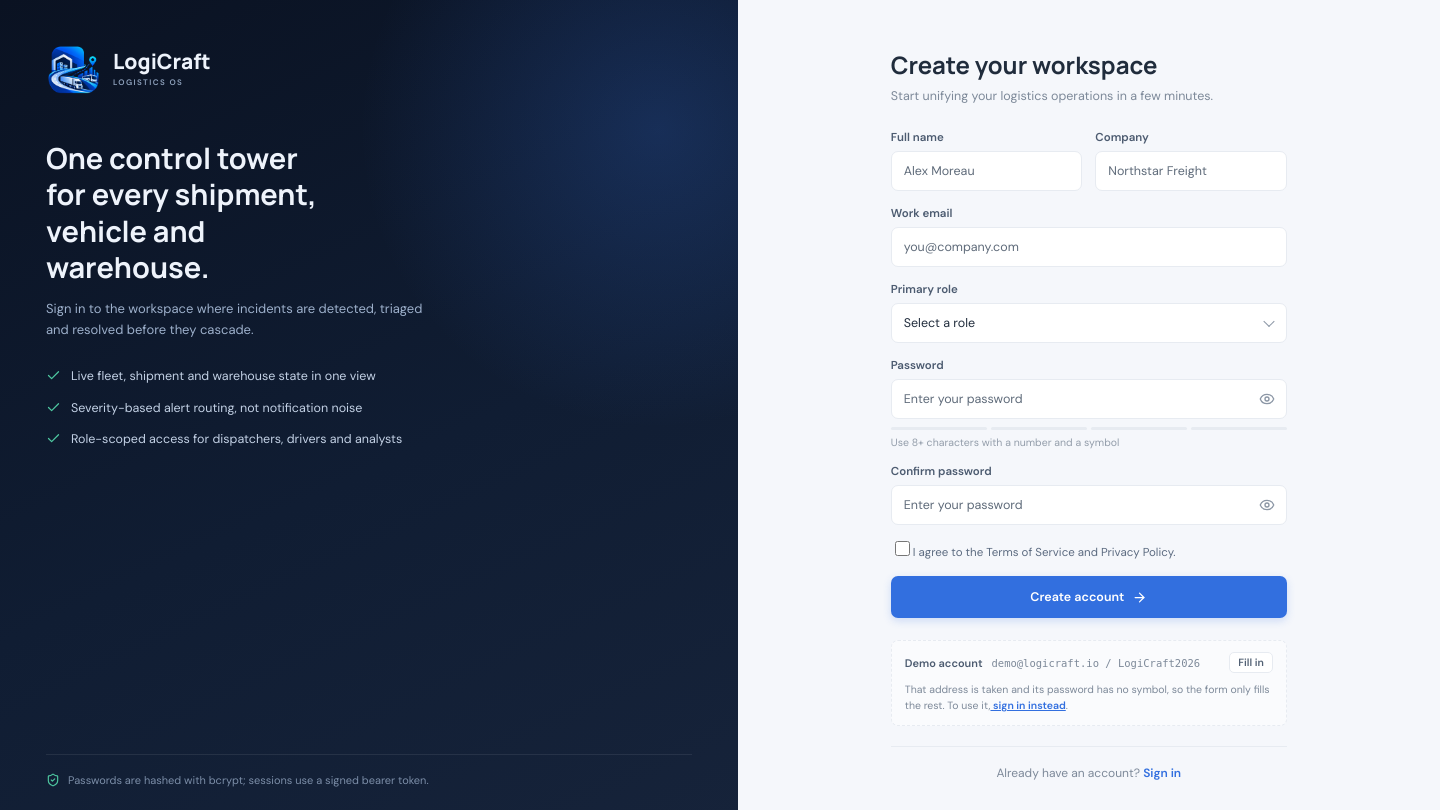
SignupPage demo panel › fills the fields a demo account can stand in for
The width and height of the screenshot is (1440, 810).
Click the button "Fill in". click: x=1251, y=663
box: [1229,652,1273,673]
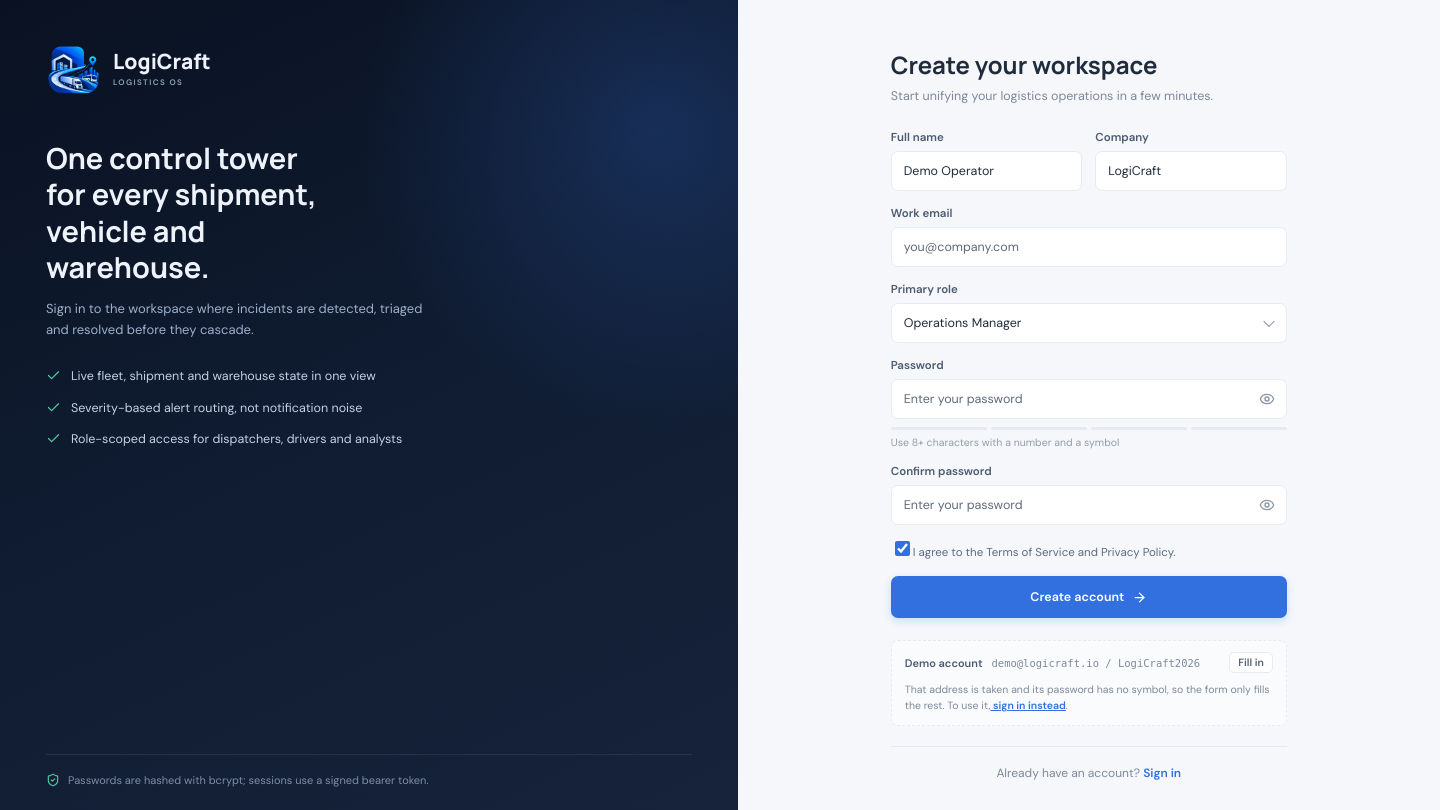
Now the checkbox labelled "I agree to the Terms of Service and Privacy Policy." is checked, box [895,541,910,556]
